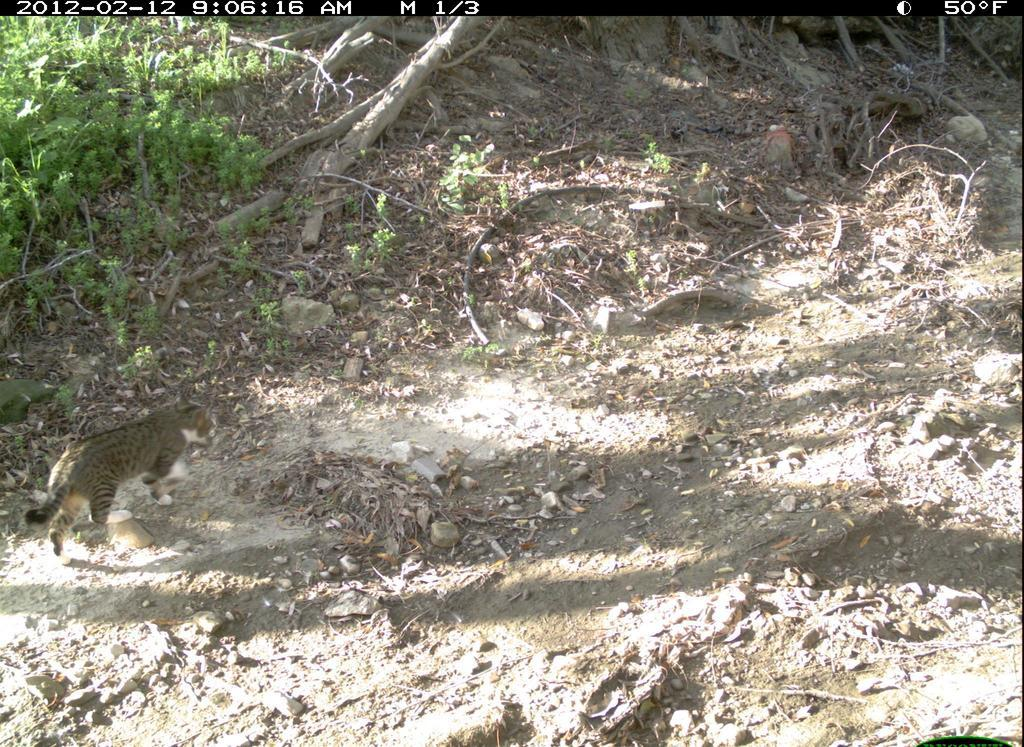cat: (38, 396, 219, 562)
